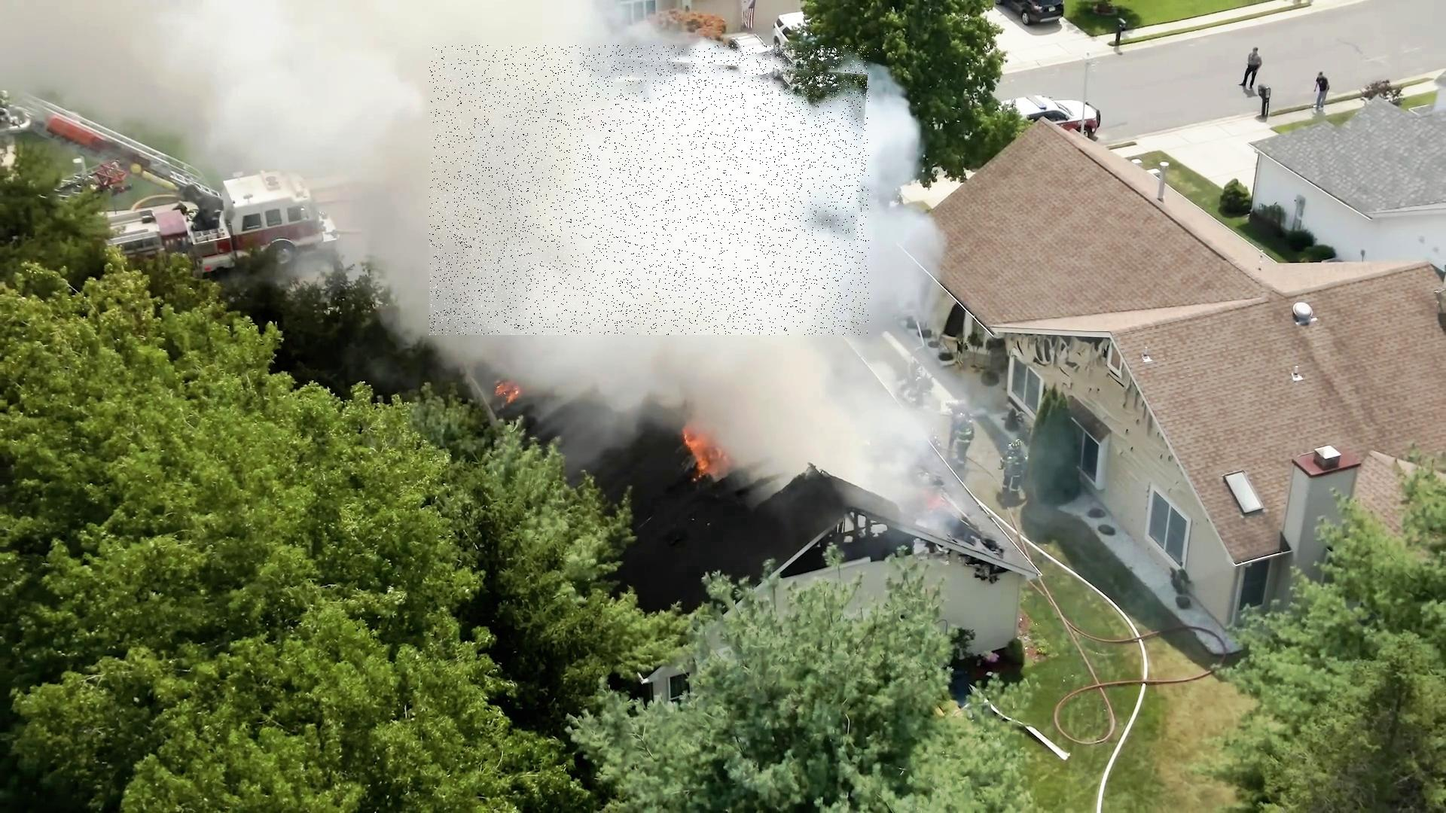smoke: (430, 45, 870, 335)
